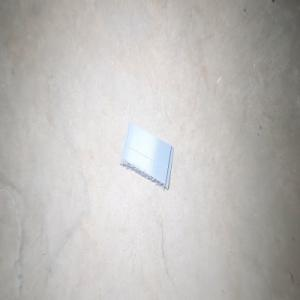PlasticPart: (119, 121, 174, 191)
